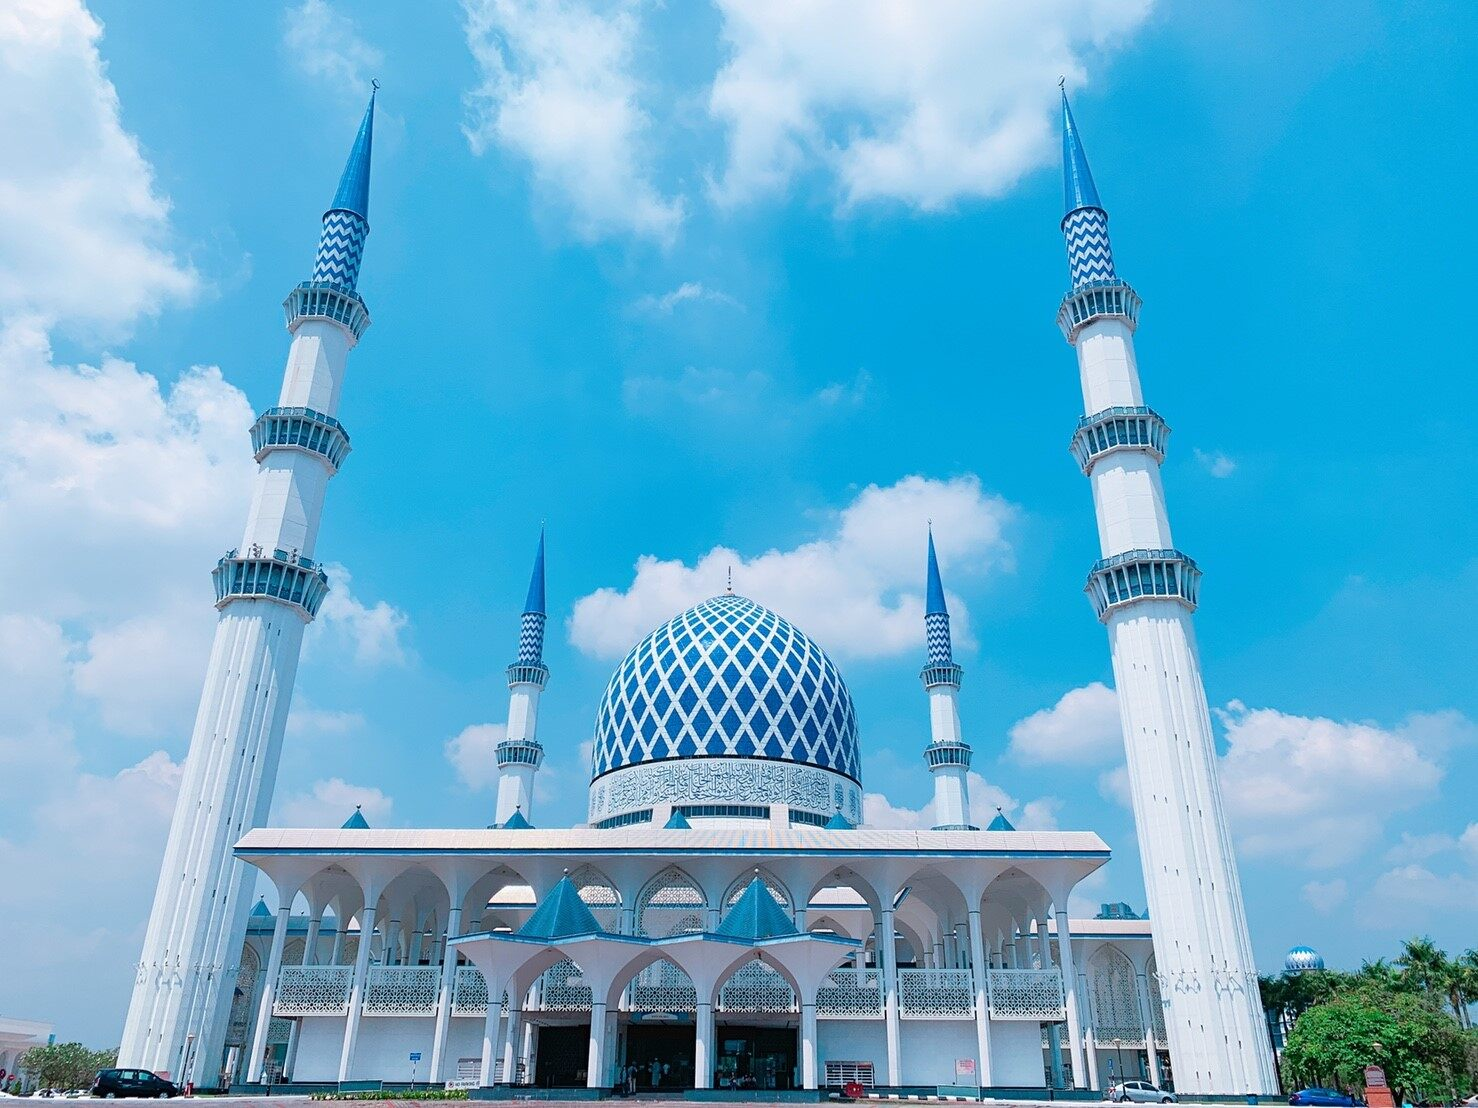Mosque: (166, 71, 1269, 1102)
